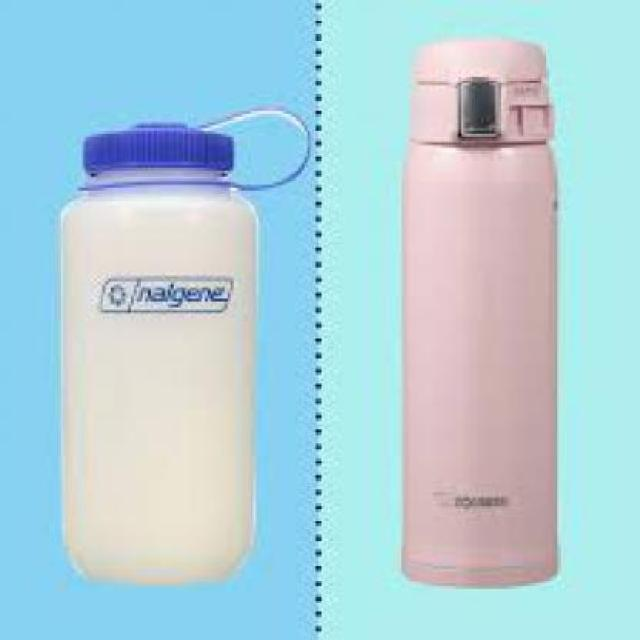Drinking: (44, 114, 289, 637), (379, 34, 566, 606)
